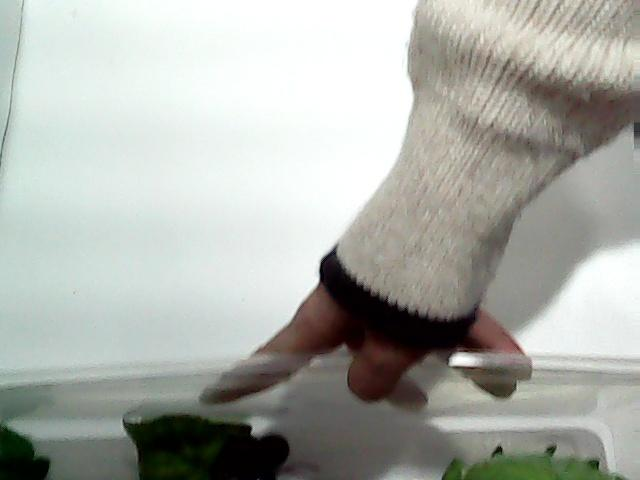cabbage: (439, 448, 640, 479)
